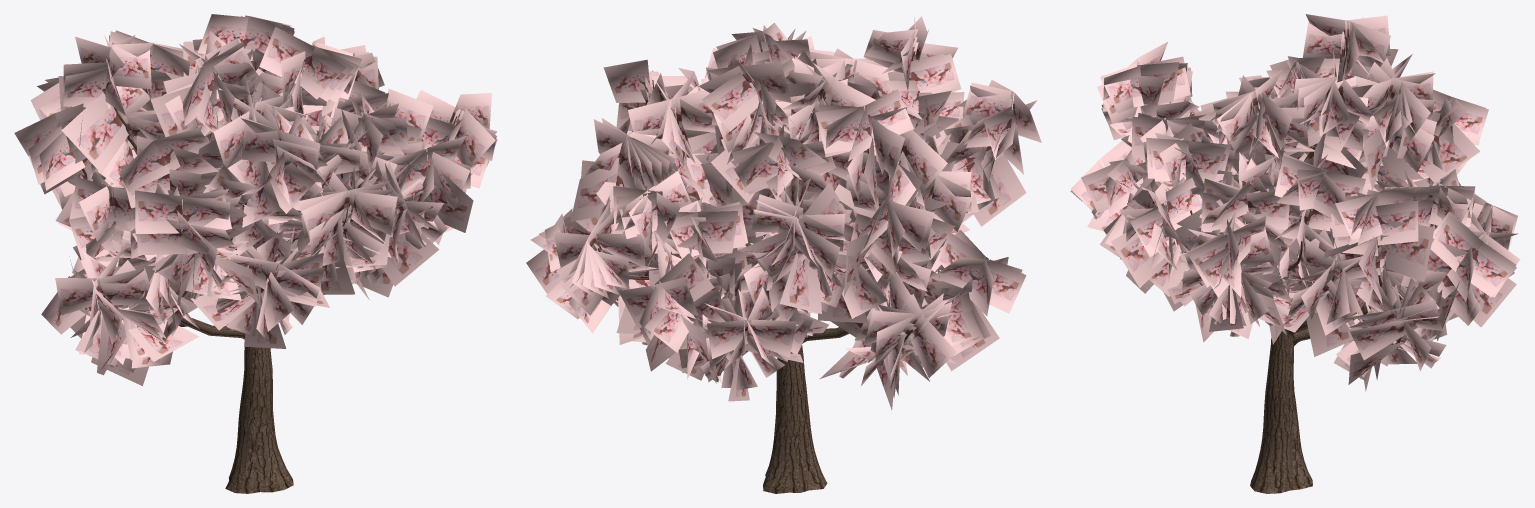
The model's file is maple_tree3_highpoly.glb.
The picture shows the model from 3 angles, left to right: view 1: azimuth 30°, elevation 25°; view 2: azimuth 150°, elevation 25°; view 3: azimuth 270°, elevation 25°; orthographic projection. The views are drawn at different scales.
Visible parts, largest first — view 1: Sakura_Sakura_Mat_0, Sakura_Bark001_2K_JPG_Mat_0; view 2: Sakura_Sakura_Mat_0, Sakura_Bark001_2K_JPG_Mat_0; view 3: Sakura_Sakura_Mat_0, Sakura_Bark001_2K_JPG_Mat_0.
Boxes of the visible parts, x1,y1,x2,y2 form: Sakura_Sakura_Mat_0: (14, 14, 497, 385); Sakura_Bark001_2K_JPG_Mat_0: (81, 87, 457, 493); Sakura_Sakura_Mat_0: (526, 14, 1041, 410); Sakura_Bark001_2K_JPG_Mat_0: (598, 51, 927, 493); Sakura_Sakura_Mat_0: (1070, 14, 1520, 391); Sakura_Bark001_2K_JPG_Mat_0: (1190, 41, 1401, 493).
Size of the model in its own units: 40.36 by 41.72 by 40.16.
2 materials, 2 textured.
